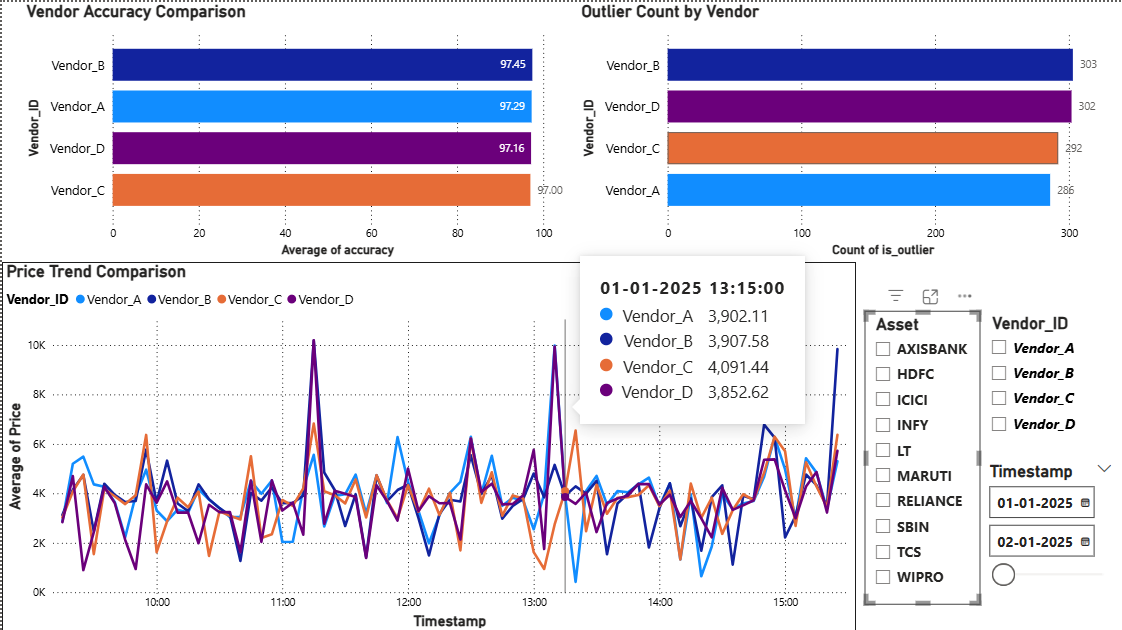

What the dashboard file says about the page in this screenshot:
{"tool":"powerbi","page":{"name":"Page 1","canvas":[1280,720],"ordinal":0},"visuals":[{"type":"clusteredBarChart","title":"Vendor Accuracy Comparison","fields":{"Category":["processed_prices.Vendor_ID"],"Y":["Avg(processed_prices.accuracy)"]},"box":[23.3,0,633.3,296.7],"z":0},{"type":"lineChart","title":"Price Trend Comparison","fields":{"Series":["processed_prices.Vendor_ID"],"Category":["processed_prices.Timestamp"],"Y":["Avg(processed_prices.Price)"]},"box":[0,296.7,975,423.3],"z":1000},{"type":"clusteredBarChart","title":"Outlier Count by Vendor","fields":{"Category":["processed_prices.Vendor_ID"],"Y":["CountNonNull(processed_prices.is_outlier)"]},"box":[656.7,0,611.7,296.7],"z":2000},{"type":"slicer","fields":{"Values":["processed_prices.Asset"]},"box":[985,353.3,133.3,335],"z":3000},{"type":"slicer","fields":{"Values":["processed_prices.Vendor_ID"]},"box":[1118.3,351.7,161.7,163.3],"z":4000},{"type":"slicer","fields":{"Values":["processed_prices.Timestamp"]},"box":[1115,520,165,178.3],"z":5000}]}

Visuals, with their boxes in screenshot pixels (x1, y1, x2, y2), scaled from the page's 1280x720 canvas onto the 1122x630 screenshot:
"Vendor Accuracy Comparison" clusteredBarChart: [20,0,576,260]
"Price Trend Comparison" lineChart: [0,260,855,629]
"Outlier Count by Vendor" clusteredBarChart: [576,0,1112,260]
slicer - processed_prices.Asset: [863,309,980,602]
slicer - processed_prices.Vendor_ID: [980,308,1121,451]
slicer - processed_prices.Timestamp: [977,455,1121,611]
